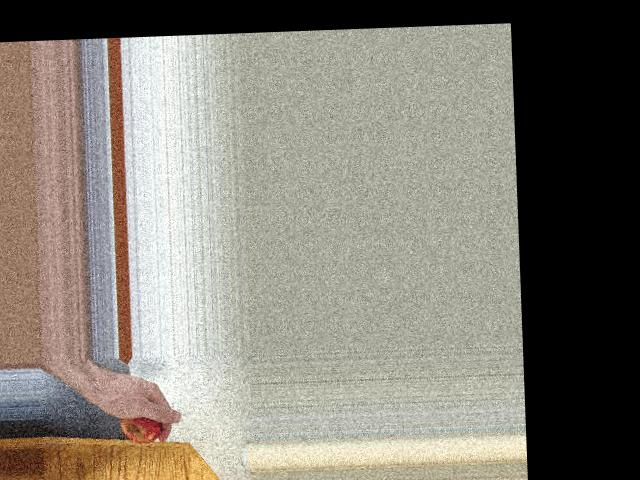apple: (110, 398, 166, 444)
